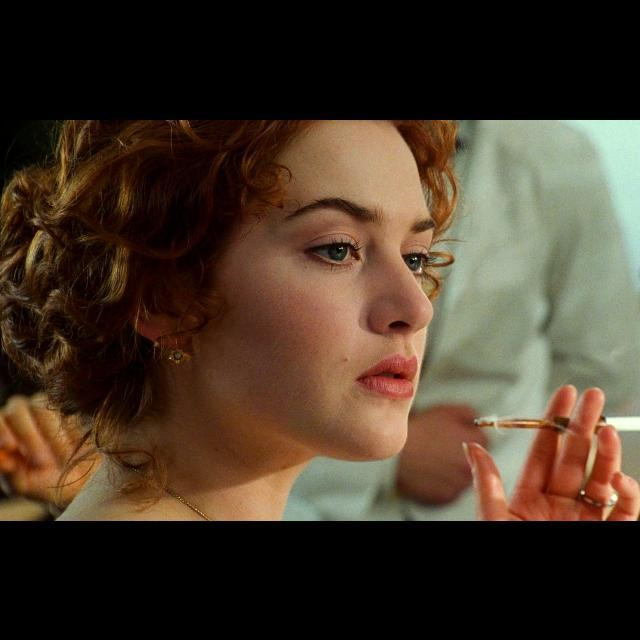rokok: (600, 406, 640, 434)
